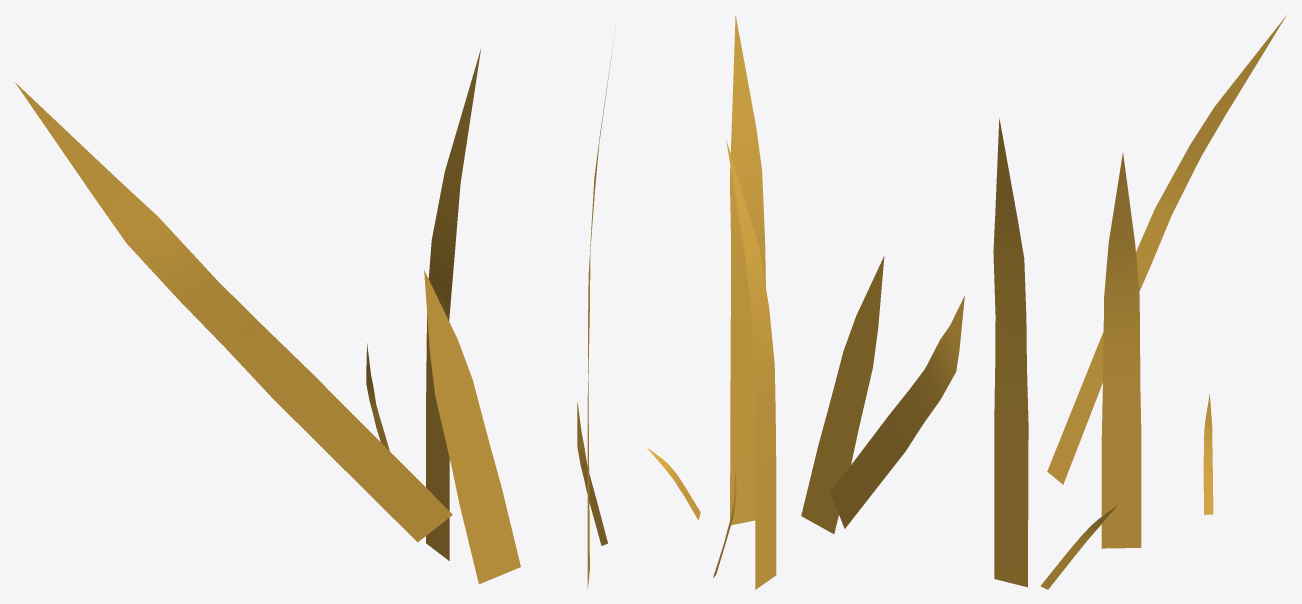
Rendered from Grass Blade (2) CURVED NOISY.fbx.
The picture shows the model from 3 angles, left to right: view 1: azimuth 30°, elevation 25°; view 2: azimuth 150°, elevation 25°; view 3: azimuth 270°, elevation 25°; orthographic projection. The views are drawn at different scales.
Visible parts, largest first — view 1: Plane.002 (1), Plane, Plane.003, Plane.002, Plane.002 (2); view 2: Plane.002, Plane, Plane.003, Plane.002 (1), Plane.002 (2); view 3: Plane.002, Plane.003, Plane.002 (1), Plane.002 (3), Plane.002 (2).
Part boxes in pixels (x1=…): Plane.002 (1): x1=15, y1=82, x2=452, y2=542; Plane: x1=424, y1=270, x2=520, y2=584; Plane.003: x1=426, y1=49, x2=480, y2=560; Plane.002: x1=587, y1=28, x2=615, y2=589; Plane.002 (2): x1=577, y1=402, x2=607, y2=545; Plane.002: x1=730, y1=15, x2=765, y2=525; Plane: x1=801, y1=256, x2=884, y2=533; Plane.003: x1=726, y1=139, x2=776, y2=589; Plane.002 (1): x1=830, y1=295, x2=964, y2=528; Plane.002 (2): x1=646, y1=447, x2=700, y2=520; Plane.002: x1=993, y1=118, x2=1028, y2=587; Plane.003: x1=1101, y1=153, x2=1141, y2=548; Plane.002 (1): x1=1047, y1=15, x2=1286, y2=484; Plane.002 (3): x1=1203, y1=394, x2=1213, y2=514; Plane.002 (2): x1=1040, y1=505, x2=1117, y2=589.
Size of the model in its own units: 7.16 by 8.37 by 4.7.
